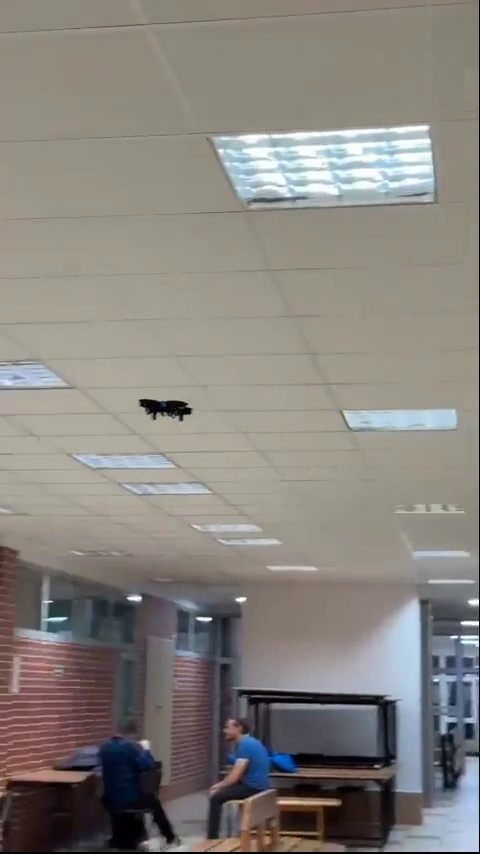drone: (137, 394, 194, 420)
no vest: (99, 715, 176, 842), (196, 714, 272, 814)
